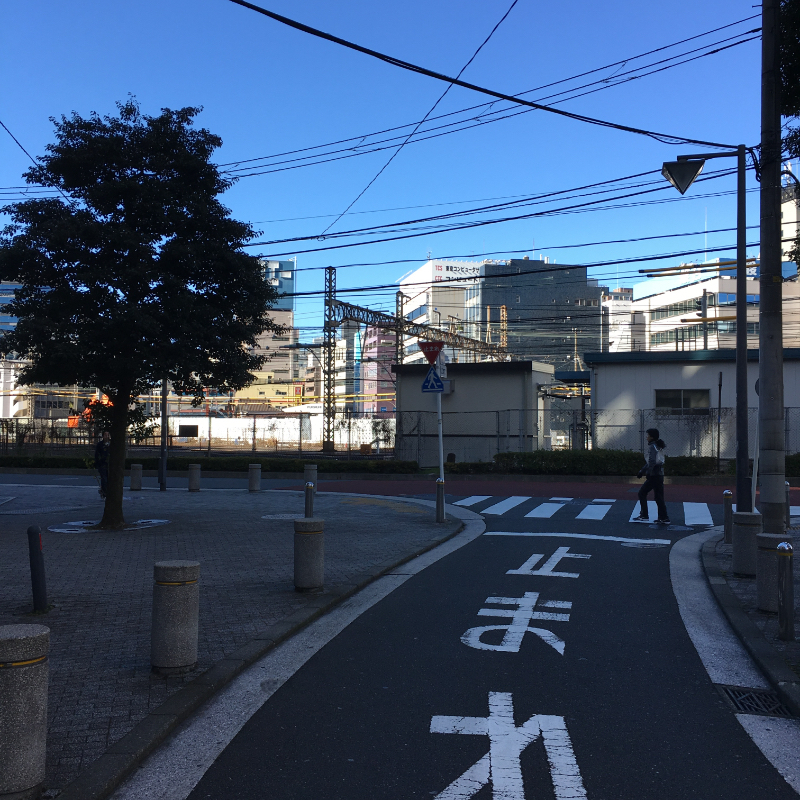STOP: (412, 340, 450, 366)
